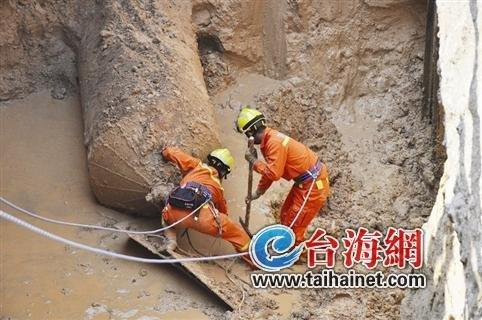gloves: (243, 148, 267, 174), (245, 189, 262, 203)
hard-hat: (235, 107, 266, 134), (207, 148, 233, 173)
person: (235, 107, 330, 259), (160, 144, 254, 263)
ppe-suit: (159, 145, 252, 261), (250, 127, 330, 248)
